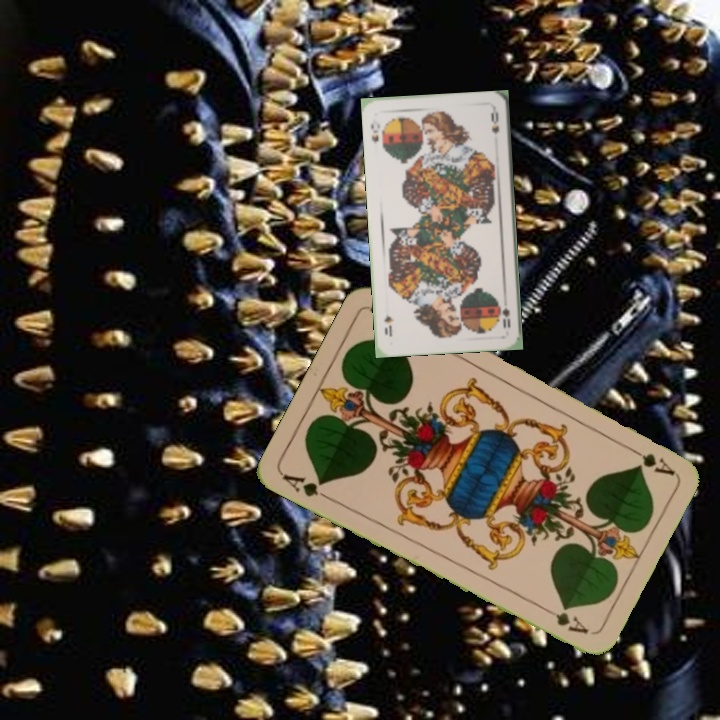GA: (622, 442, 677, 479), (278, 470, 334, 504)
SO: (496, 302, 513, 331), (367, 115, 383, 145)
